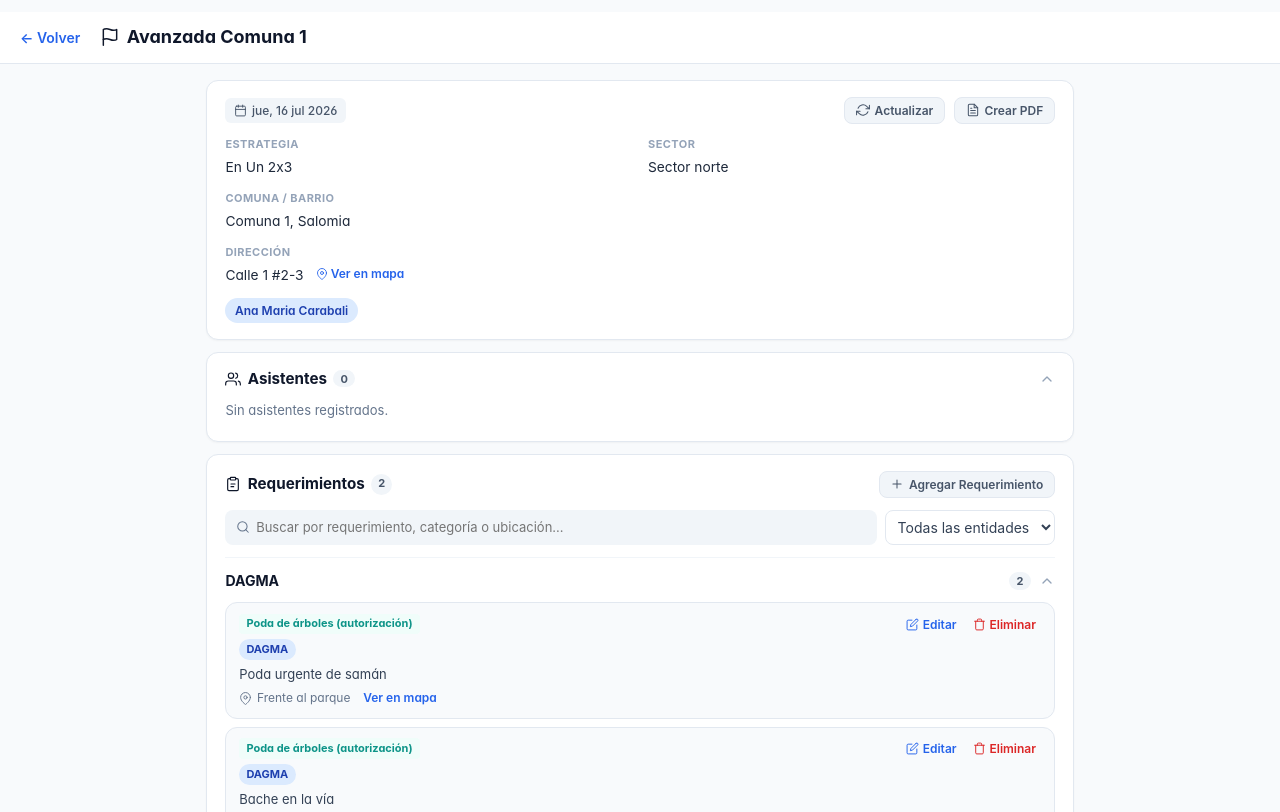
Scenario: DetalleAvanzada › requerimientos › filters requerimientos by free text across requerimiento/categoria/ubicacion
Expected: the text "Poda urgente de samán" is shown, [239,666,387,682]
Expected: the text "Bache en la vía" is shown, [239,791,334,807]
Type "samán" into the field with placeholder "Buscar por requerimiento, categoría o ubicación…" at (561, 527), box [256,519,866,535]
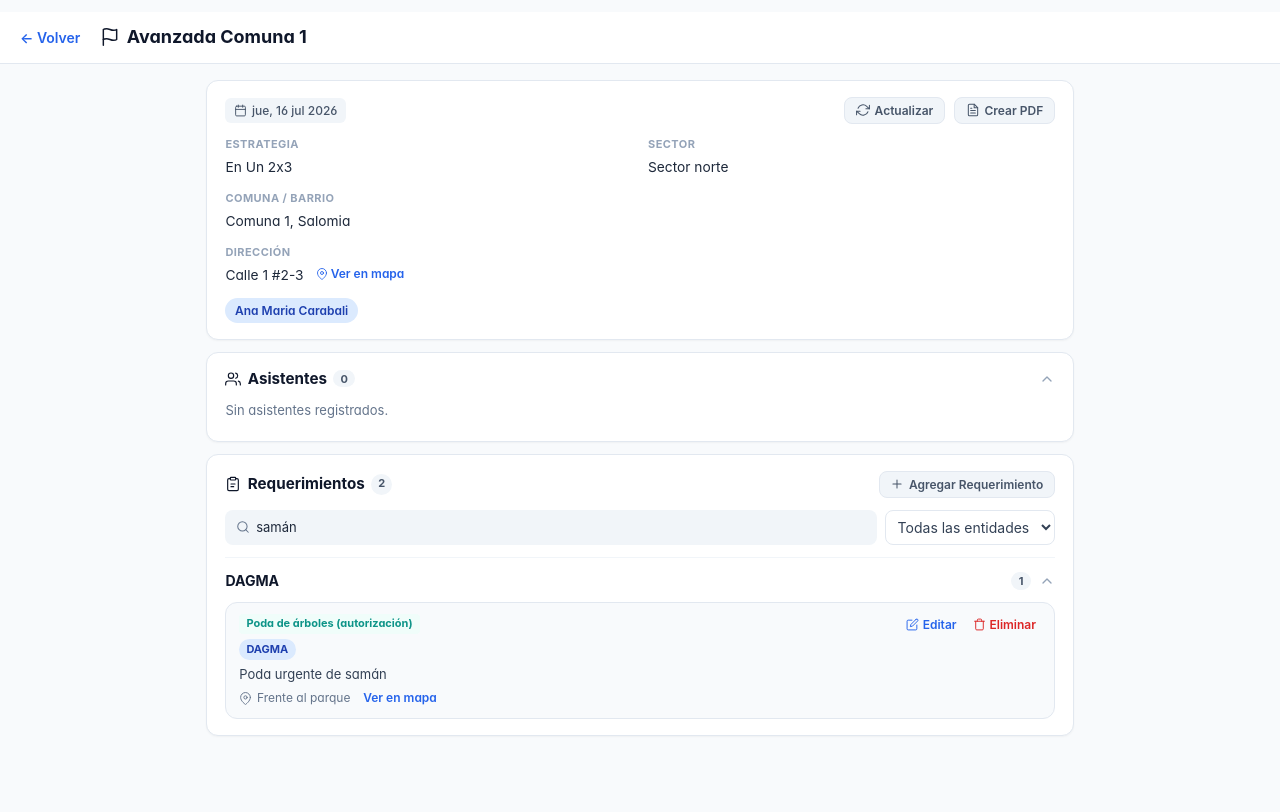
Expected: the text "Poda urgente de samán" is shown, [239,666,387,682]
Now the text "Bache en la vía" is gone
